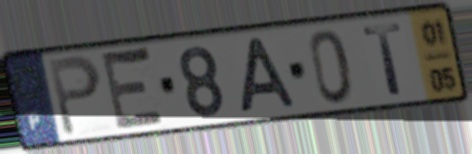0: (307, 28, 355, 106)
8: (177, 44, 227, 118)
A: (238, 35, 300, 117)
E: (98, 44, 169, 134)
P: (45, 53, 104, 140)
T: (359, 20, 406, 98)
